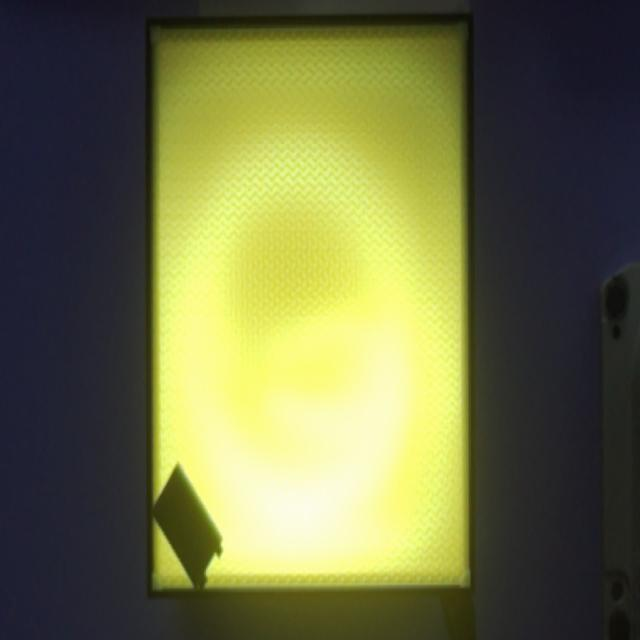bateria: (151, 461, 225, 591)
mesa: (146, 14, 476, 598)
